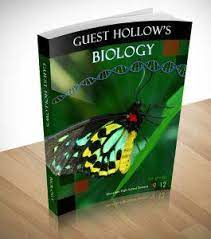book: (36, 7, 194, 215)
